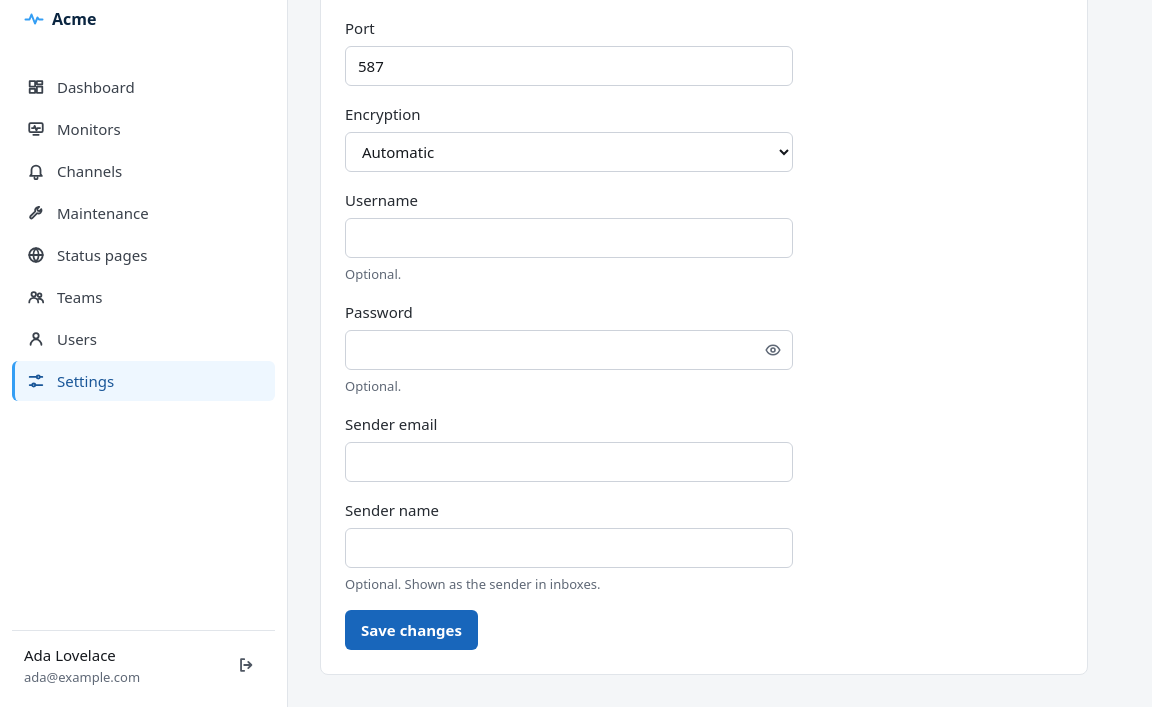
it: MailSection › shows validation errors next to the fields
This screenshot has width=1152, height=707.
(page scrolled)
Click the button "Save changes" at (411, 630), box [345,610,478,650]
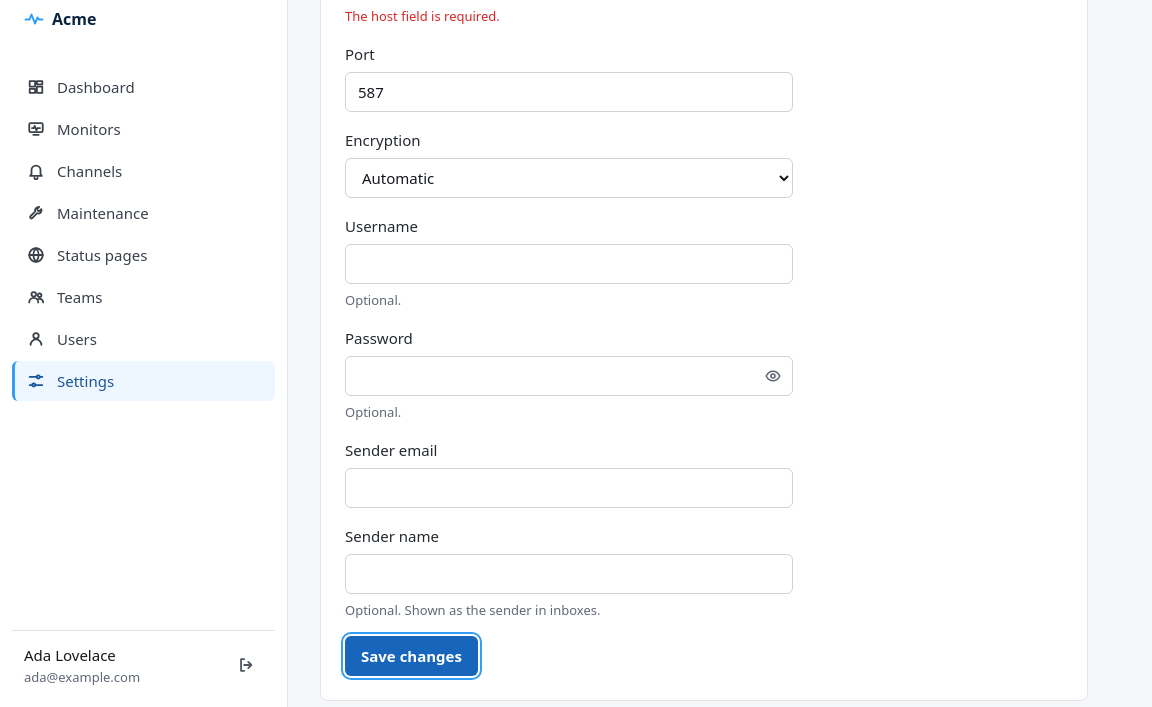
Result: the text "The host field is required." is shown at [345,7,500,25]
